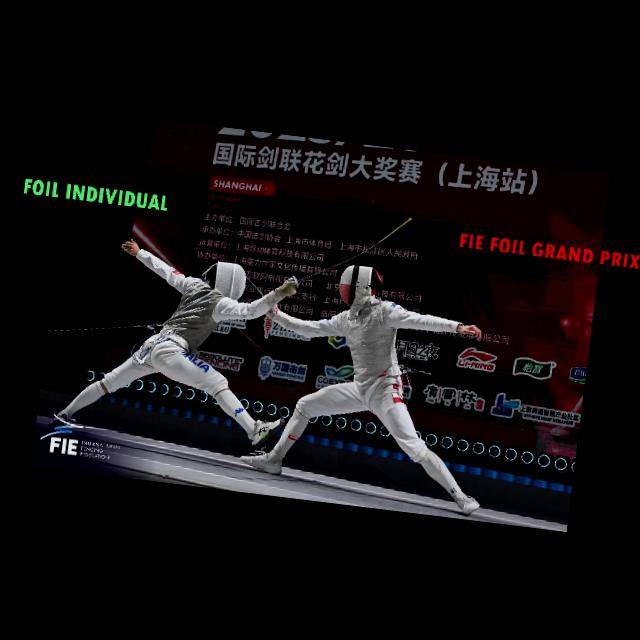blade: (279, 198, 414, 306)
